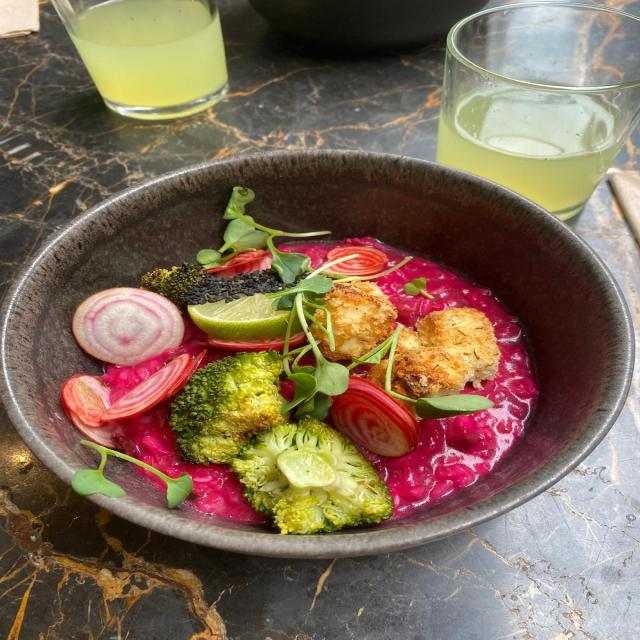bowl: (0, 150, 634, 558)
brocolis: (170, 350, 392, 534), (140, 263, 210, 309)
cup: (436, 0, 639, 220), (52, 0, 228, 120)
fried cod: (309, 280, 500, 399)
garbage: (196, 187, 493, 418), (71, 440, 192, 508)
lime: (188, 293, 289, 340)
onion: (61, 354, 196, 448), (72, 287, 185, 367)
